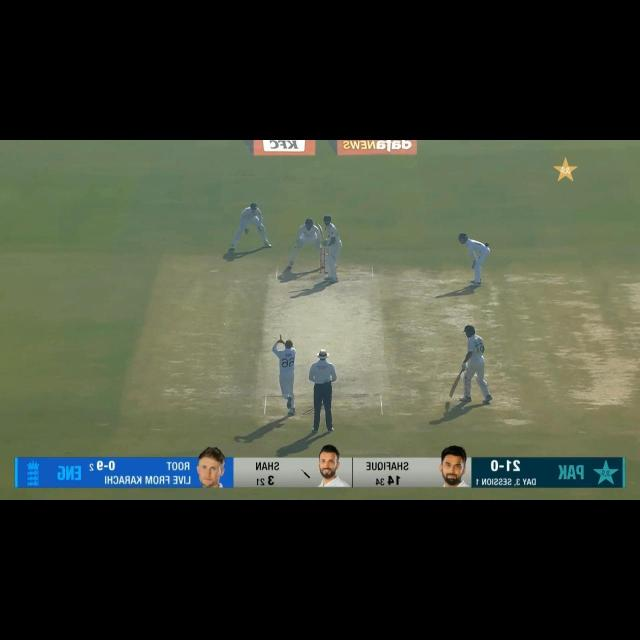bat: (449, 372, 462, 399), (316, 223, 325, 240)
toe: (449, 388, 456, 399), (316, 222, 322, 230)
